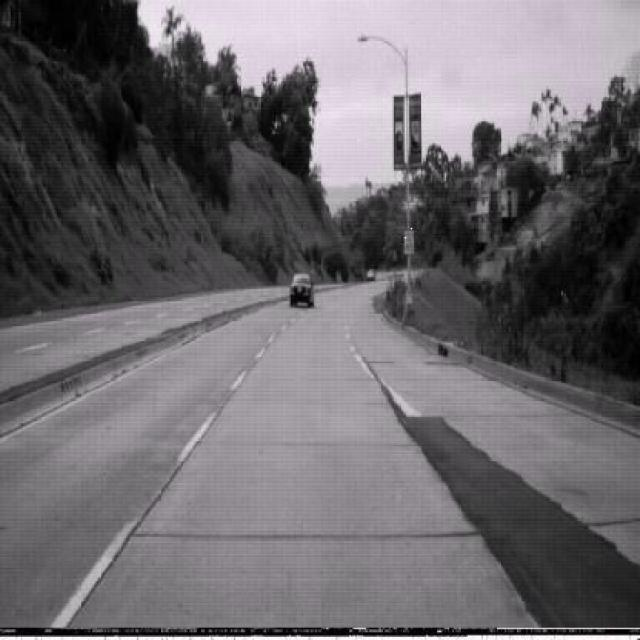speedLimit45: (403, 228, 414, 255)
